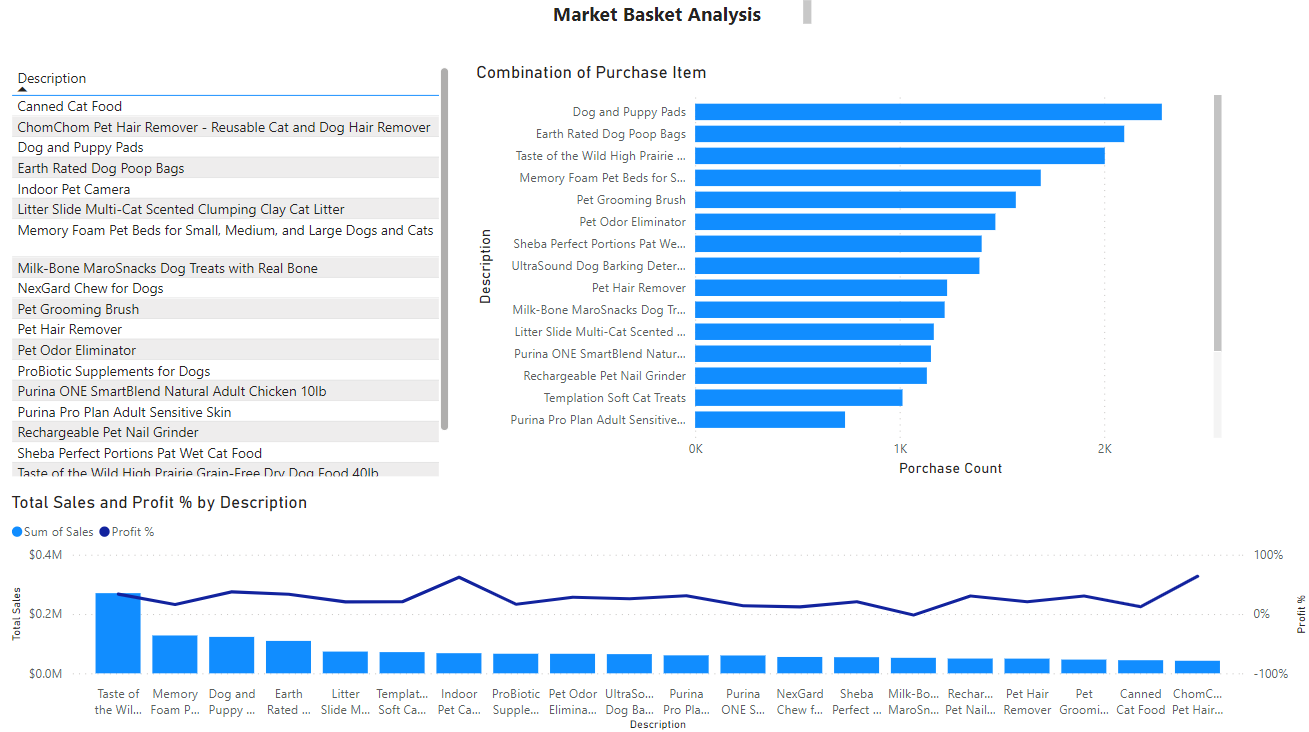

Layout of this report page (visuals, bound fields, positions):
{"tool":"powerbi","page":{"name":"Market Basket Analysis","canvas":[1280,720],"ordinal":4},"visuals":[{"type":"tableEx","fields":{"Values":["Sales.Description"]},"box":[9.7,65.2,435.7,407.5],"z":0},{"type":"barChart","title":"Combination of Purchase Item","fields":{"Category":["Market Basket.Description"],"Y":["CountNonNull(Market Basket.Description)"]},"box":[462,65.2,735.3,407.5],"z":1000},{"type":"lineClusteredColumnComboChart","title":"Total Sales and Profit % by Description","fields":{"Y2":["New_Measures.Profit %"],"Y":["Sum(Sales.Sales)"],"Category":["Sales.Description"]},"box":[9.7,483.4,1270.3,236.4],"z":1001},{"type":"textbox","box":[495.1,0,299.6,34],"z":1002}]}

Visuals, with their boxes in screenshot pixels (x1, y1, x2, y2), scaled from the page's 1280x720 canvas onto the 1309x732 screenshot:
tableEx - Sales.Description: 10 66 455 481
"Combination of Purchase Item" barChart: 472 66 1224 481
"Total Sales and Profit % by Description" lineClusteredColumnComboChart: 10 491 1308 731
textbox: 506 0 813 35
